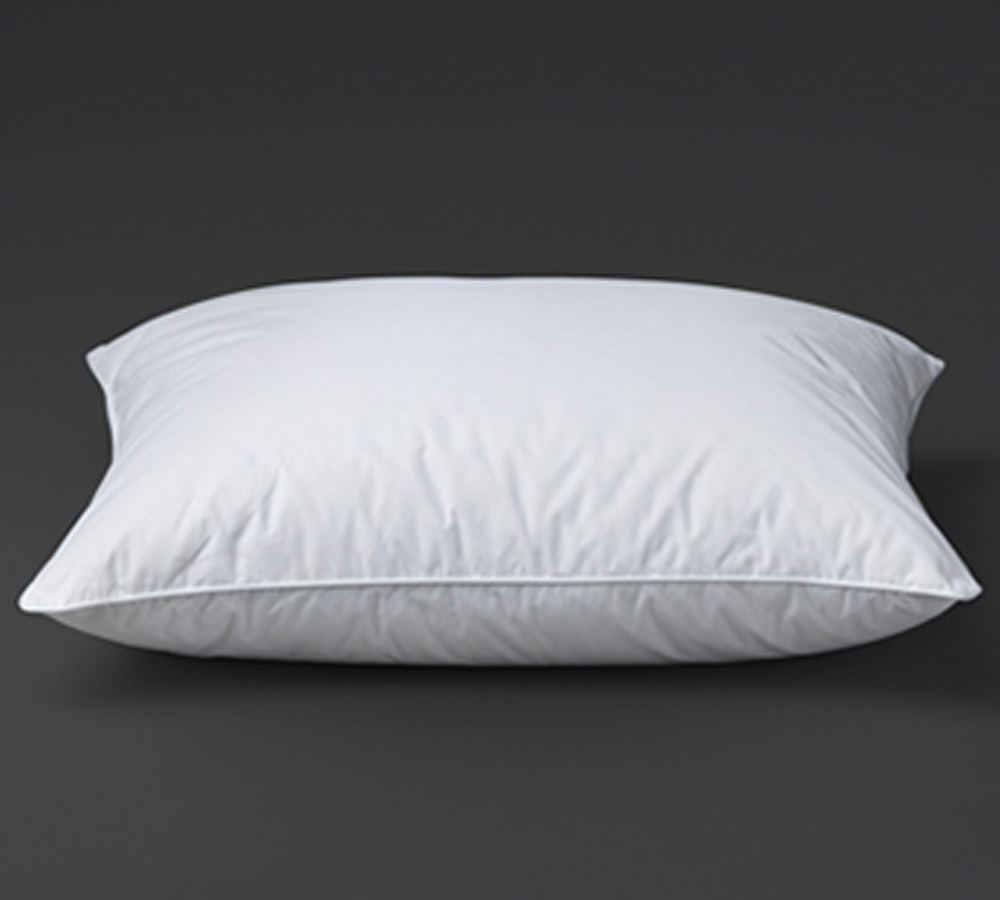bantal: (10, 257, 989, 691)
